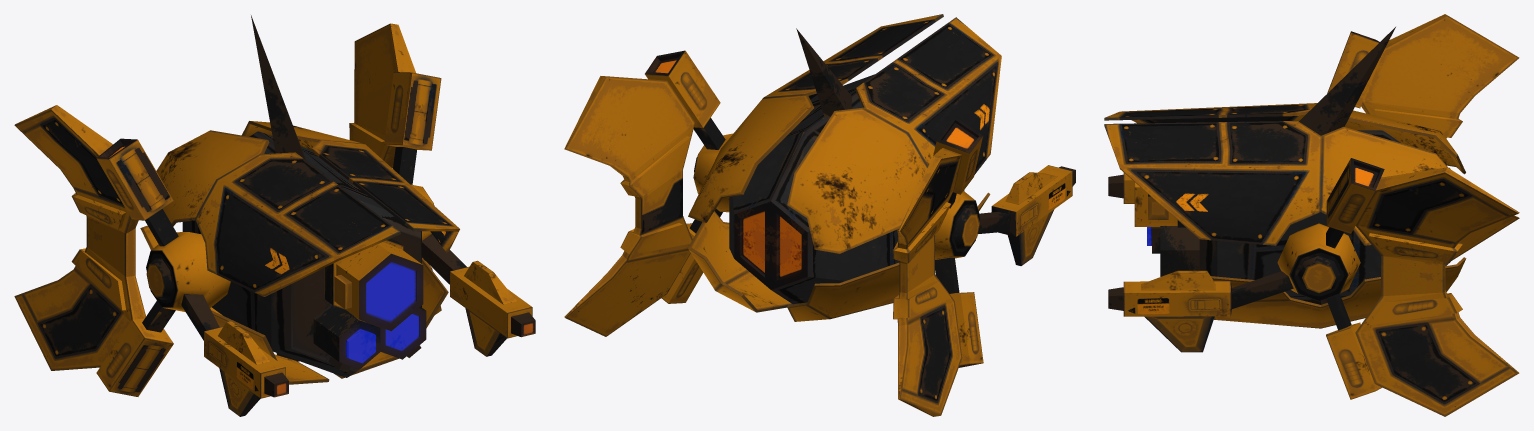
The model's file is Drone.FBX.
3 renders of one model, left to right at view 1: azimuth 30°, elevation 25°; view 2: azimuth 150°, elevation 25°; view 3: azimuth 270°, elevation 25°, orthographic. The views are drawn at different scales.
Parts seen in each view (by area): view 1: Cylinder001; view 2: Cylinder001; view 3: Cylinder001.
Boxes of the visible parts, left/top/right/bottom form: Cylinder001: left=14, top=15, right=535, bottom=416; Cylinder001: left=564, top=14, right=1075, bottom=416; Cylinder001: left=1104, top=14, right=1519, bottom=416.
Size of the model in its own units: 141 by 130 by 156.
